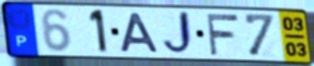1: (87, 8, 110, 56)
6: (40, 7, 74, 55)
7: (242, 12, 278, 59)
A: (119, 11, 162, 54)
F: (204, 12, 241, 57)
J: (160, 10, 196, 58)
